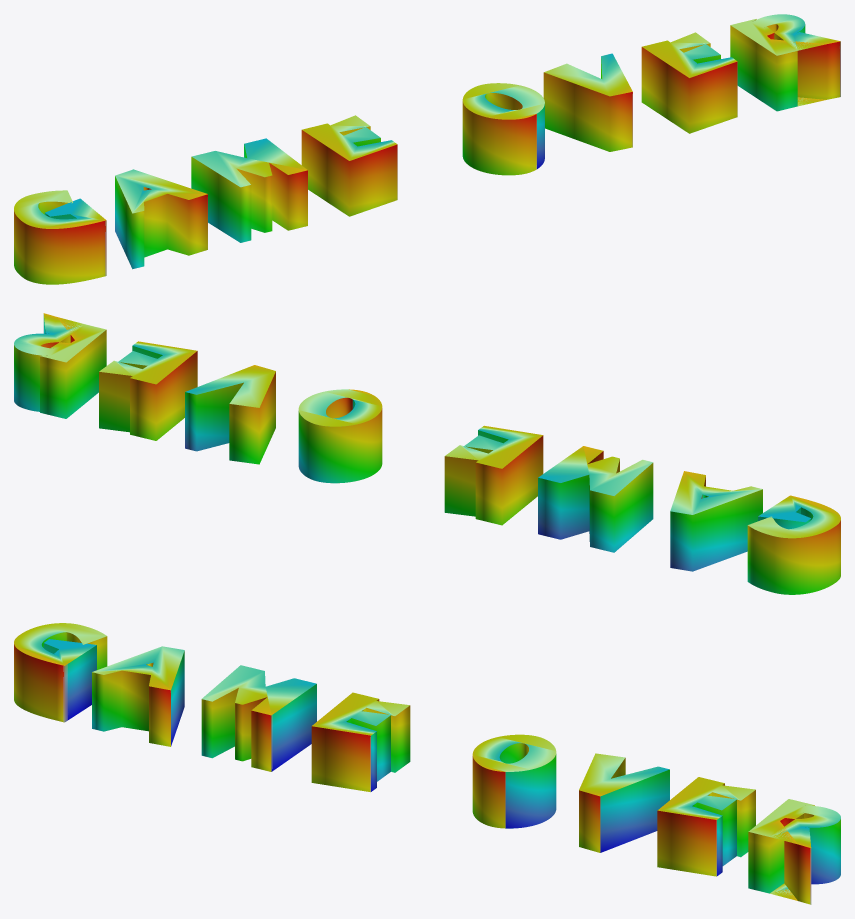
Rendered from gameover.obj.
3 views of the same model, one above another, from view 1: azimuth 30°, elevation 25°; view 2: azimuth 150°, elevation 25°; view 3: azimuth 330°, elevation 25° (orthographic).
Visible parts, largest first — view 1: テキスト; view 2: テキスト; view 3: テキスト.
Part boxes in pixels (x1,y1,x2,y2): テキスト: [14, 14, 840, 284]; テキスト: [14, 313, 840, 594]; テキスト: [14, 623, 840, 904].
Bounding box in the file's own units: 7.5 × 0.5 × 0.7451.
Materials: 1 (1 with a texture image).
